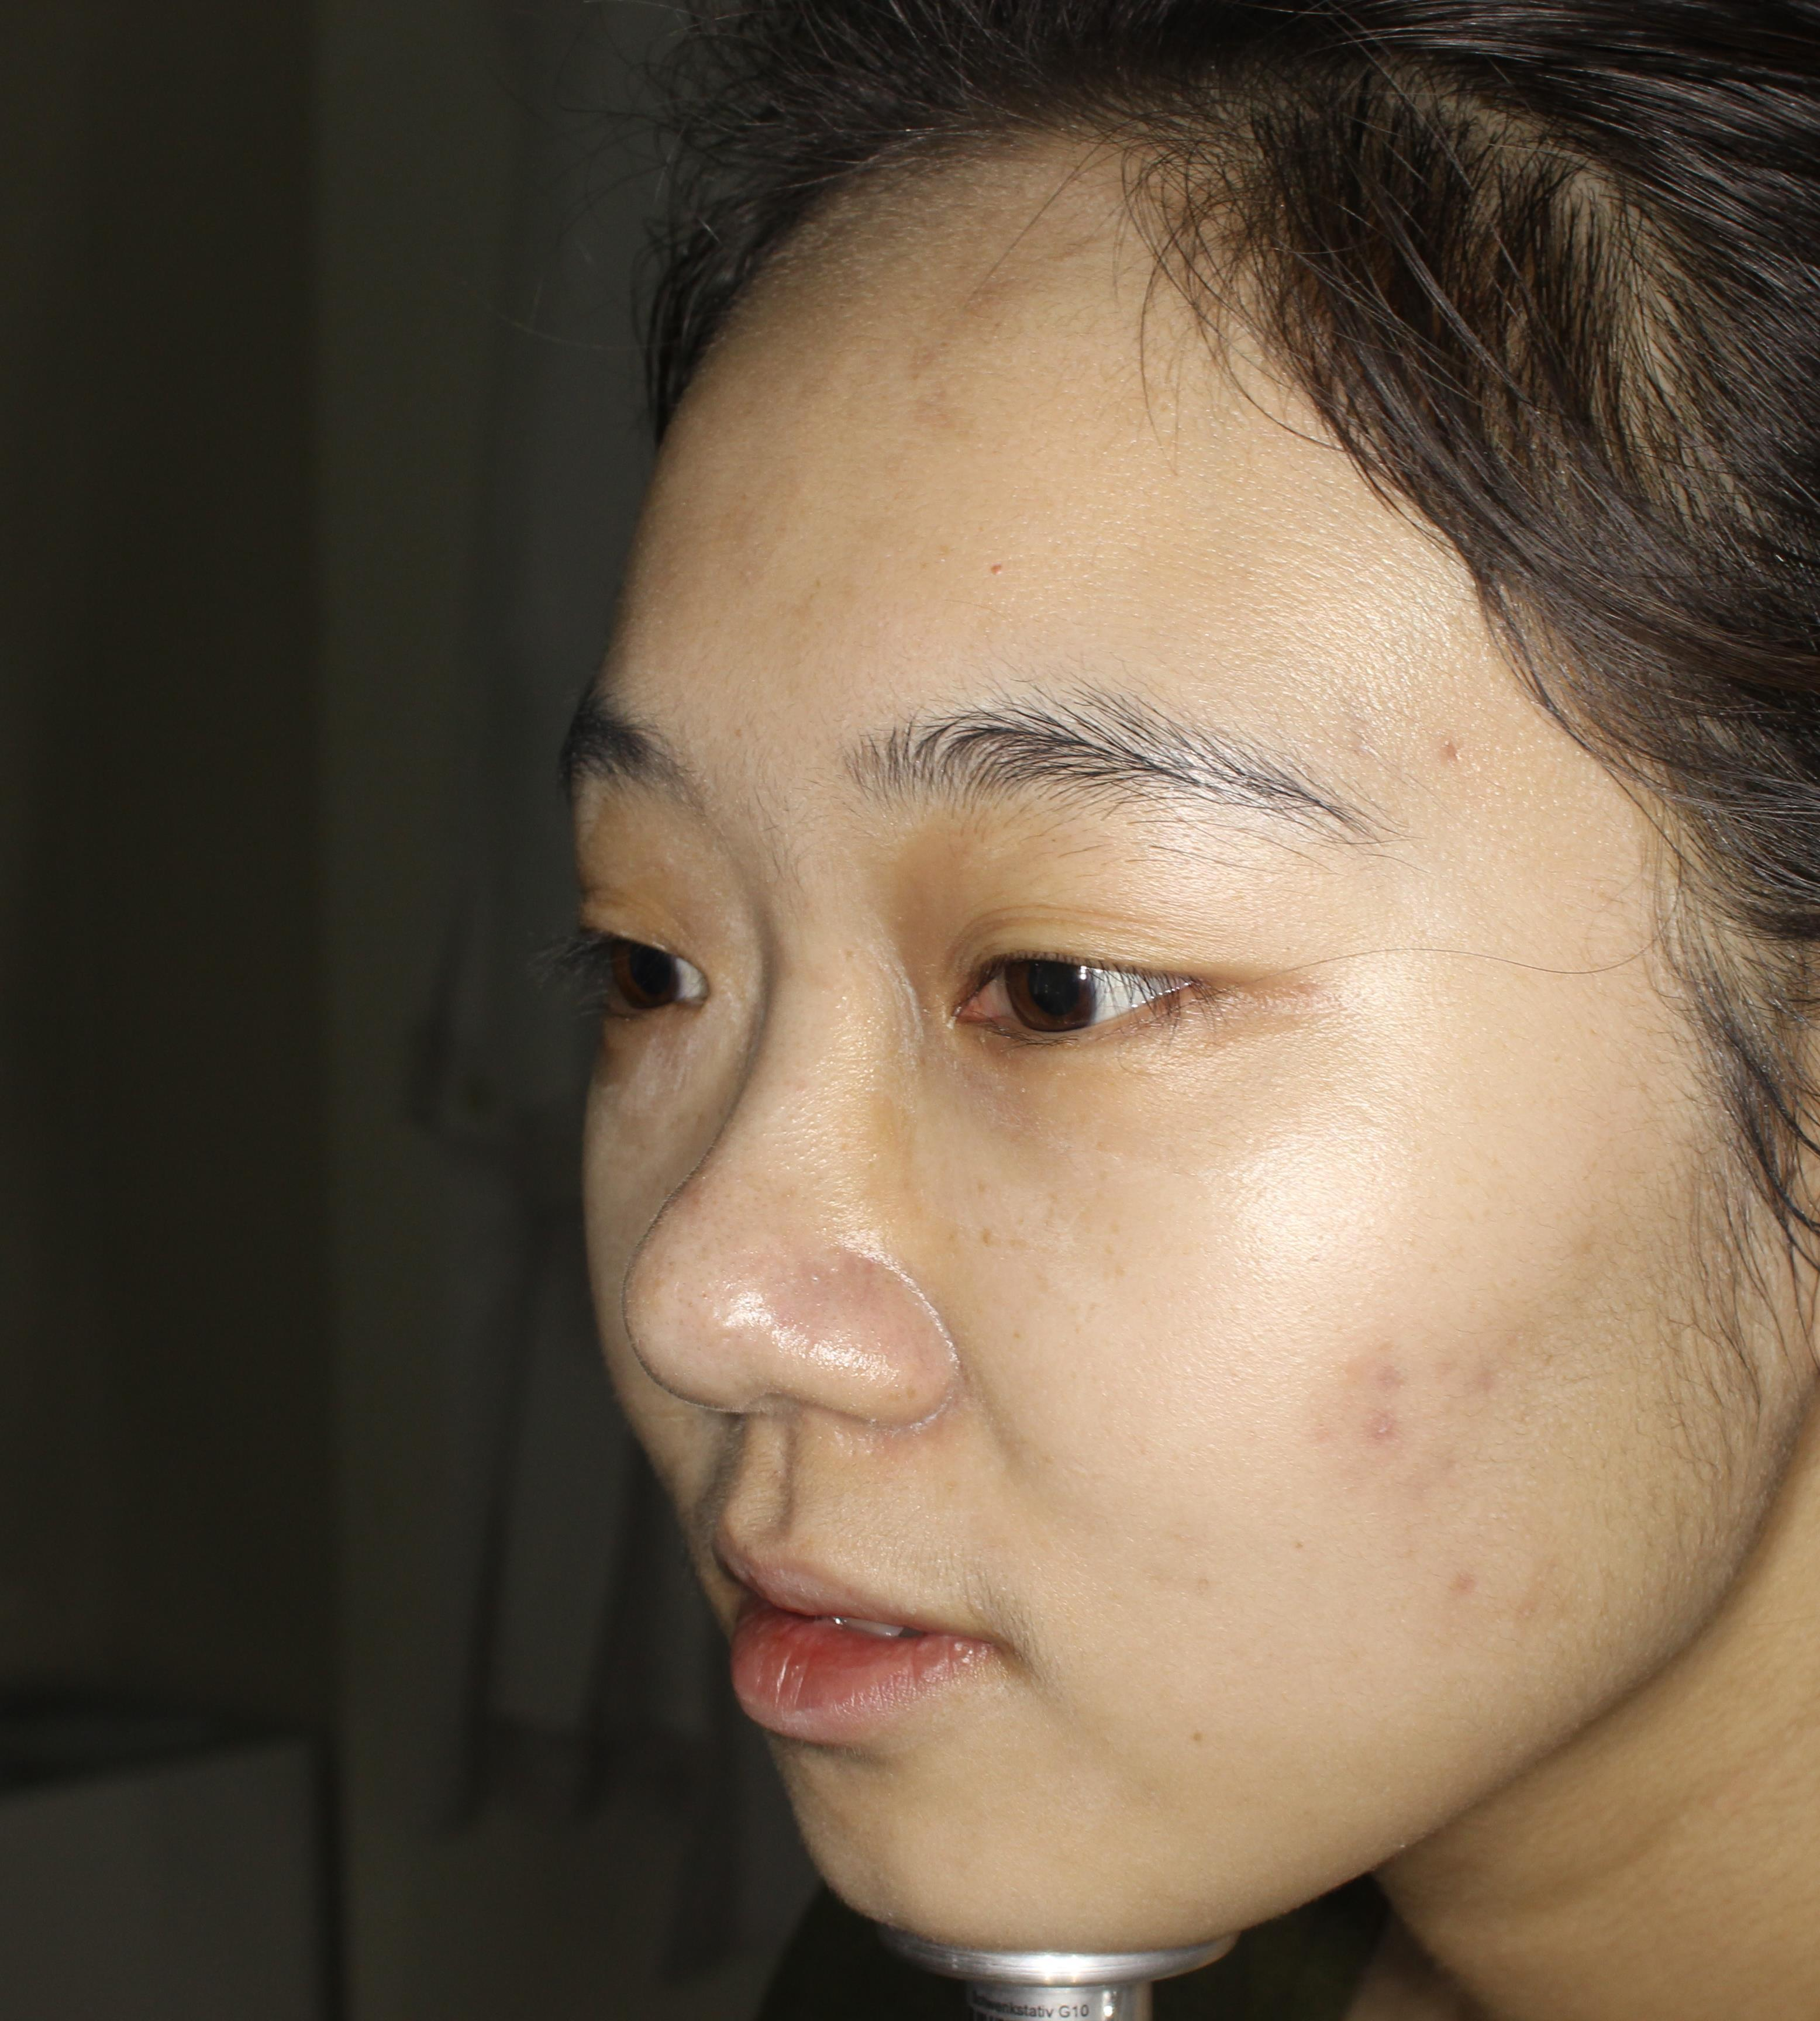fore: (1354, 1343, 1418, 1450)
